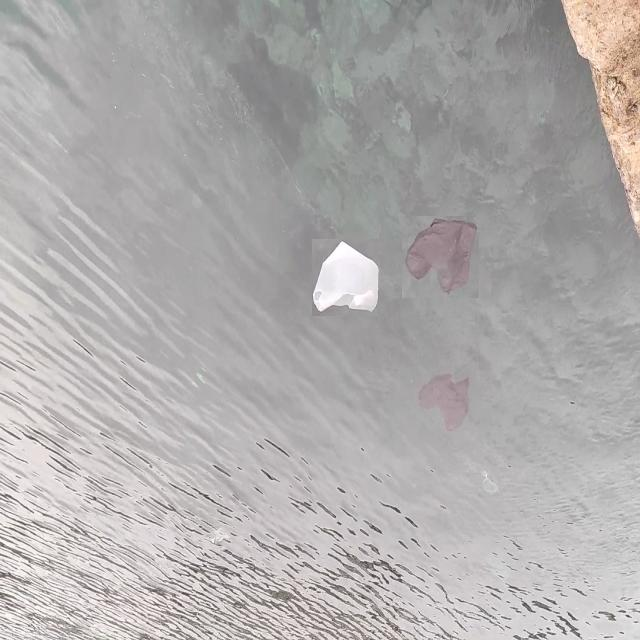Plastic bag: (402, 216, 479, 298), (312, 239, 379, 316), (417, 371, 472, 434), (478, 466, 500, 497)
